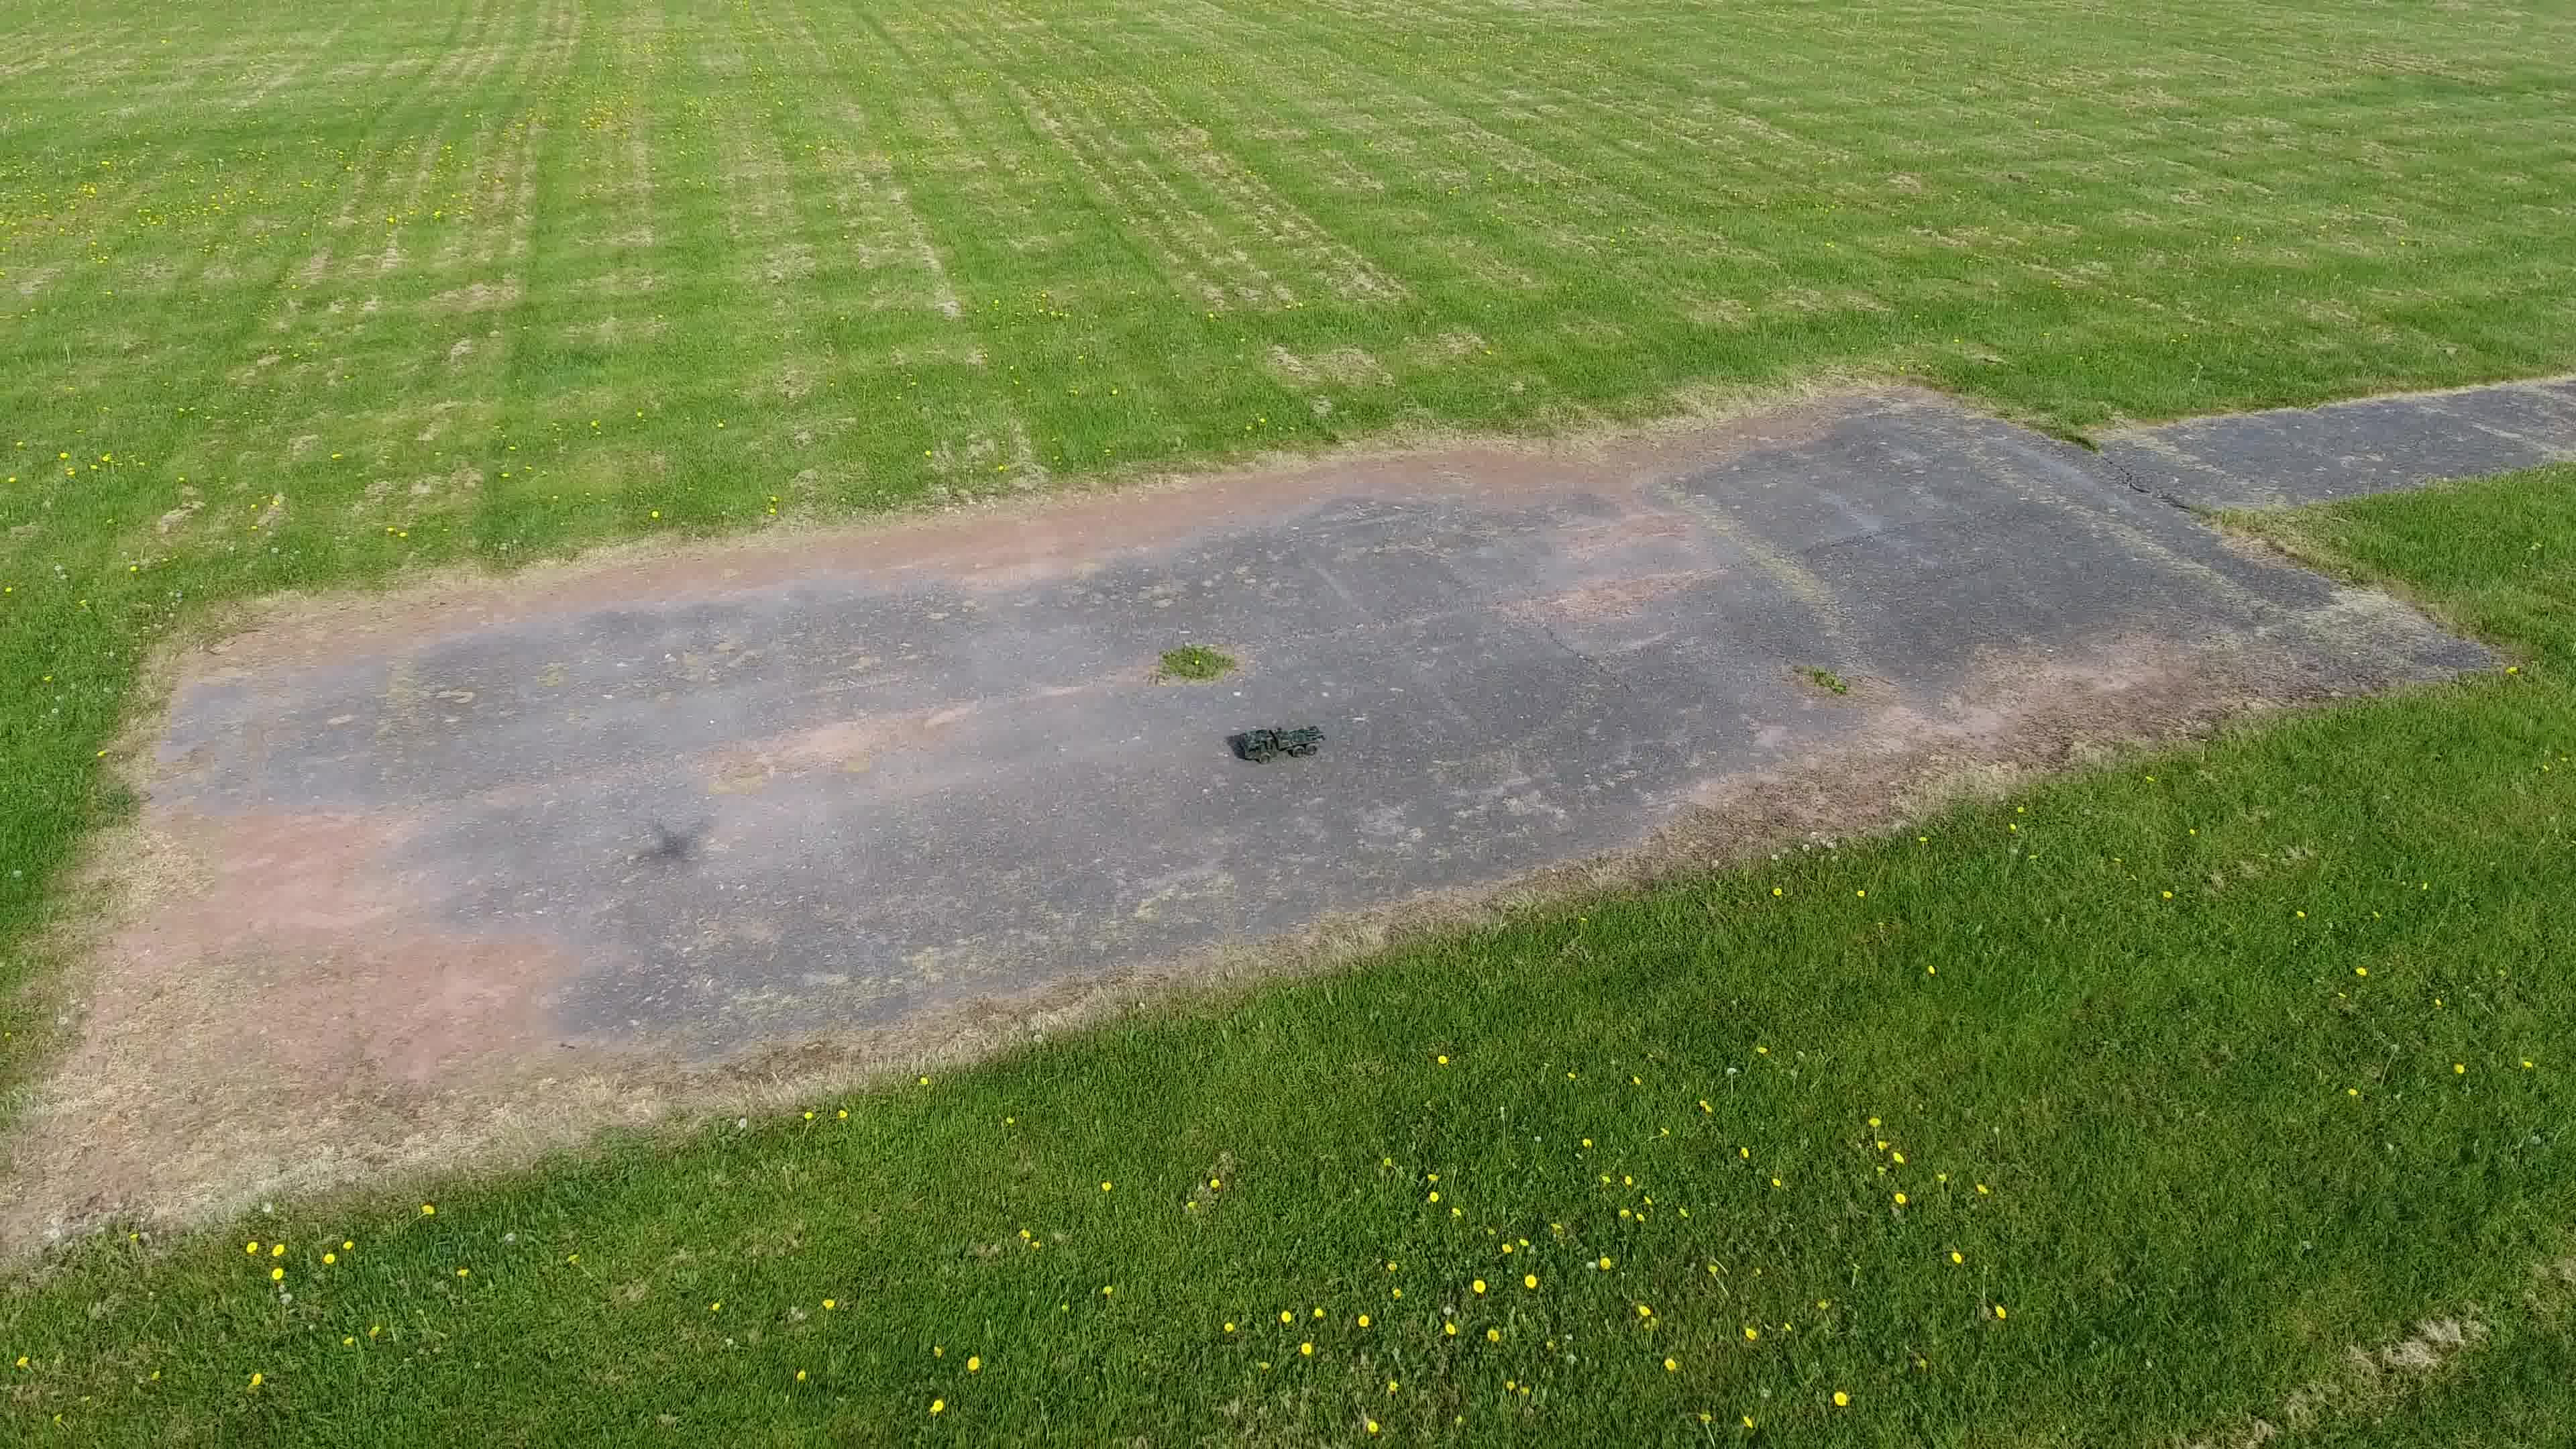transporter9_camo: (1235, 717, 1330, 766)
